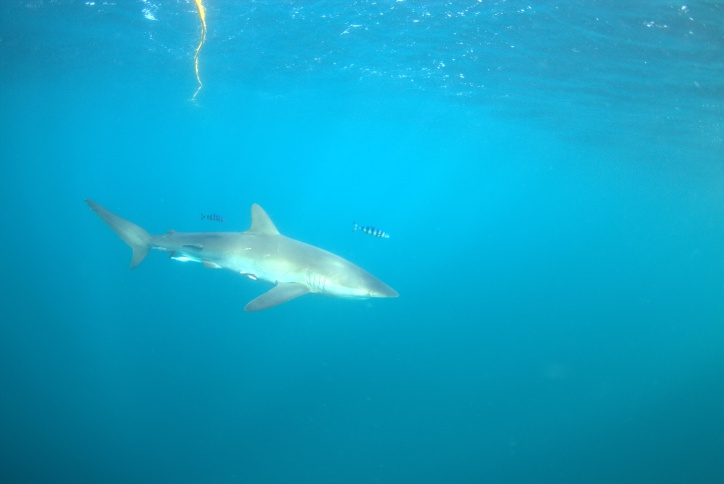Sedoso: (56, 178, 410, 332)
